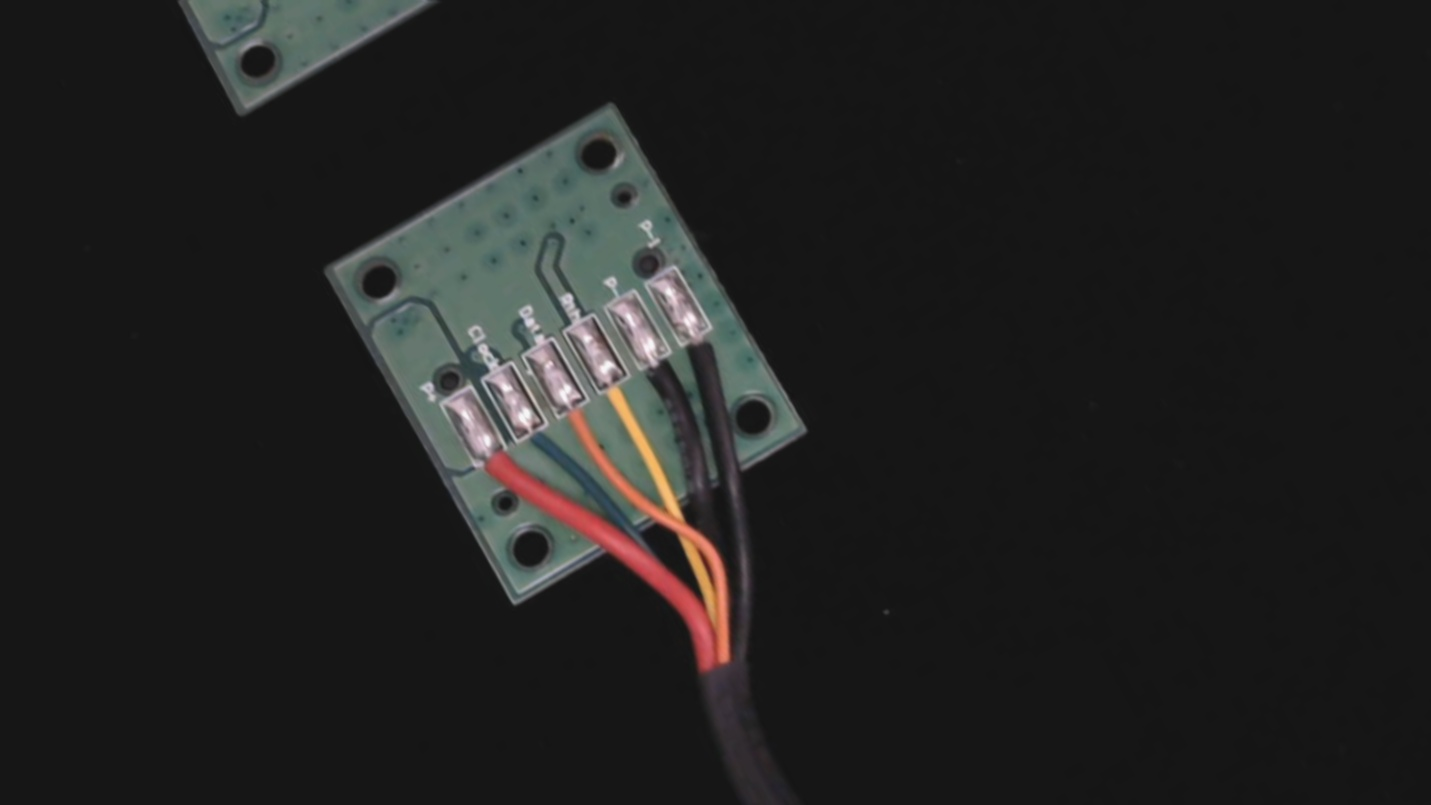Black: (622, 336, 705, 423)
Black1: (666, 310, 749, 400)
Green: (502, 403, 580, 488)
Orange: (541, 381, 625, 475)
Red: (457, 430, 542, 523)
Yellow: (583, 357, 662, 443)
